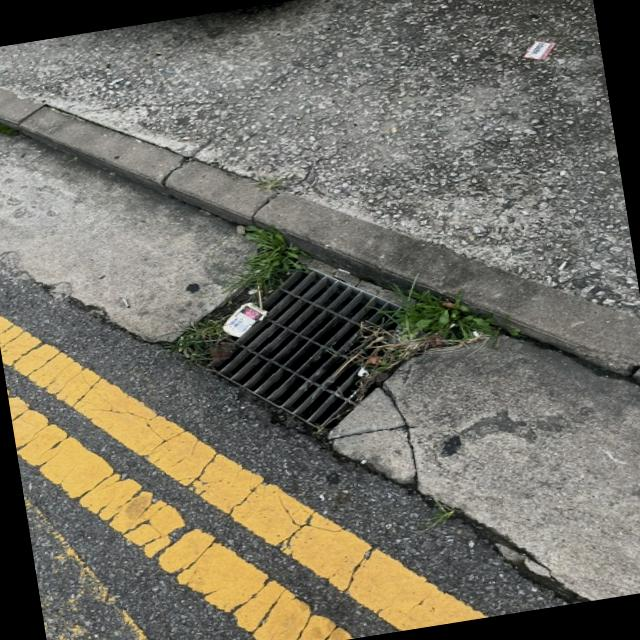drain_area: (210, 271, 402, 428)
drain_full: (180, 254, 444, 436)
